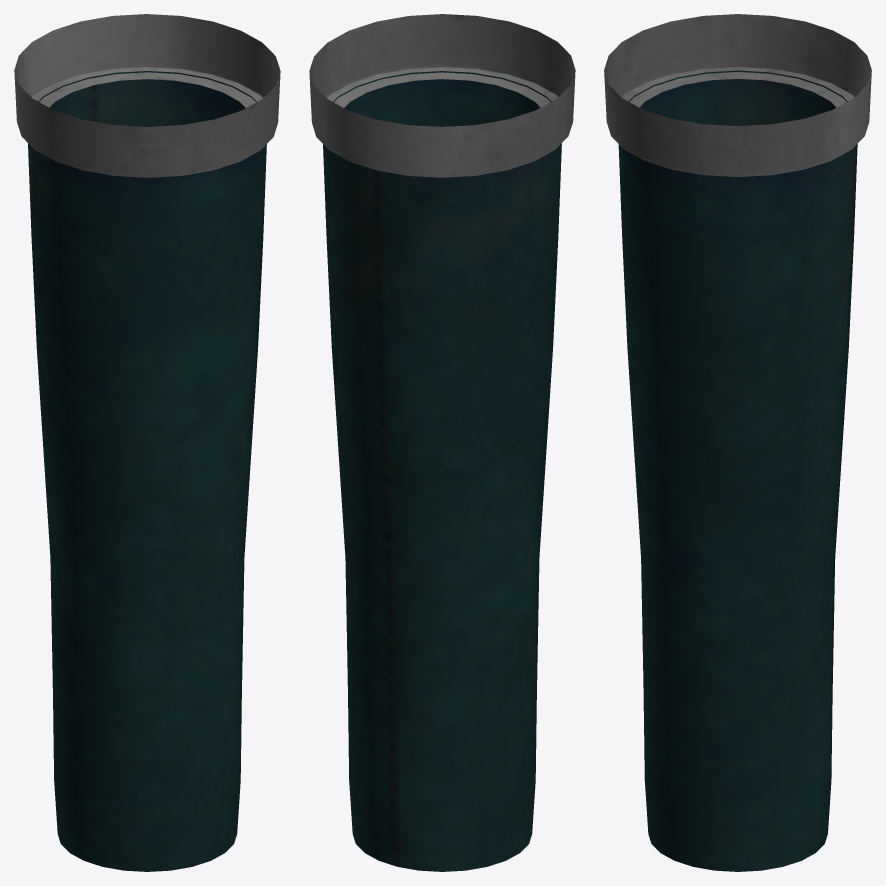
Rendered from wm_pelagir_sword_a01_handle.fbx.
3 views of the same model, side by side, from view 1: azimuth 30°, elevation 25°; view 2: azimuth 150°, elevation 25°; view 3: azimuth 270°, elevation 25° (orthographic).
Visible parts, largest first — view 1: wm_pelagir_sword_a01_handle; view 2: wm_pelagir_sword_a01_handle; view 3: wm_pelagir_sword_a01_handle.
Part boxes in pixels (x1,y1,x2,y2): wm_pelagir_sword_a01_handle: [14, 14, 280, 871]; wm_pelagir_sword_a01_handle: [309, 14, 575, 871]; wm_pelagir_sword_a01_handle: [604, 14, 871, 871].
Bounding box in the file's own units: 0.0415 × 0.0418 × 0.1317.
Materials: 1 (1 with a texture image).
